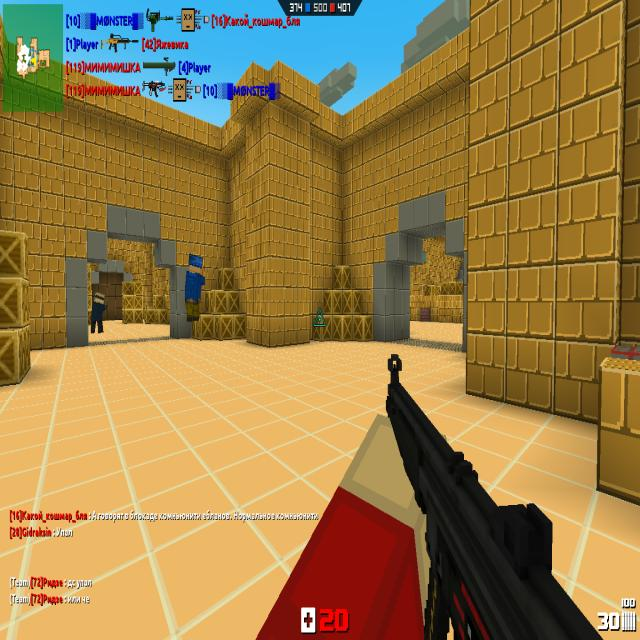enemy: (185, 254, 205, 322), (90, 292, 107, 334)
